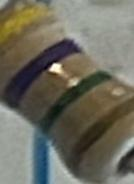Blue: (0, 34, 82, 105)
Green: (36, 68, 114, 132)
Side-Gold: (64, 92, 134, 178)
Yellow: (0, 1, 57, 52)
